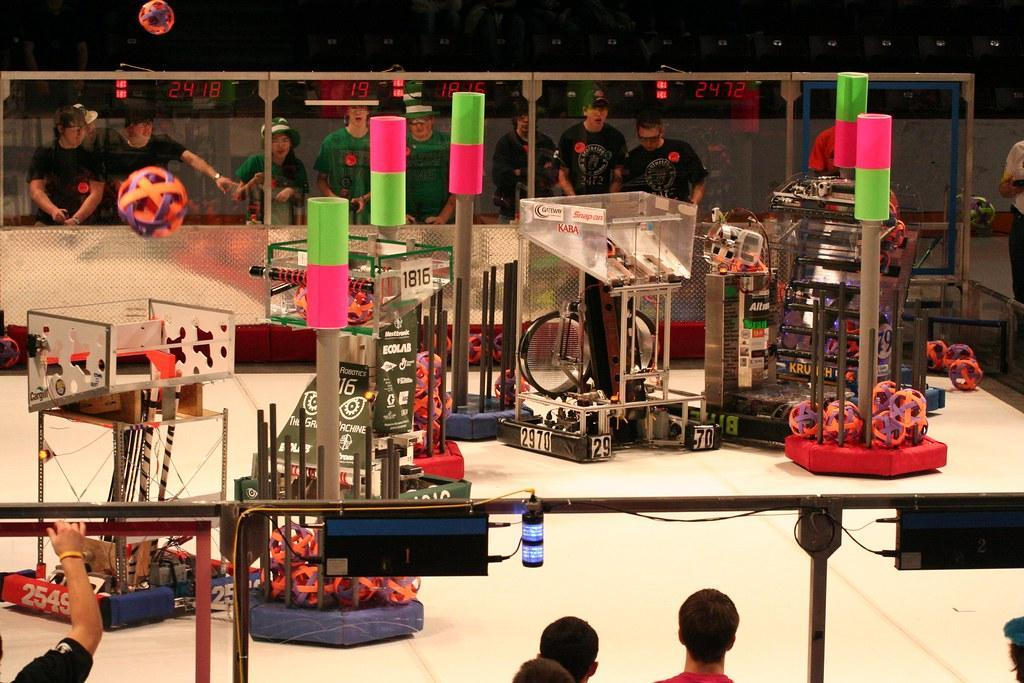robot: (2, 293, 263, 629), (232, 230, 480, 543), (747, 123, 959, 435), (499, 182, 727, 463)
